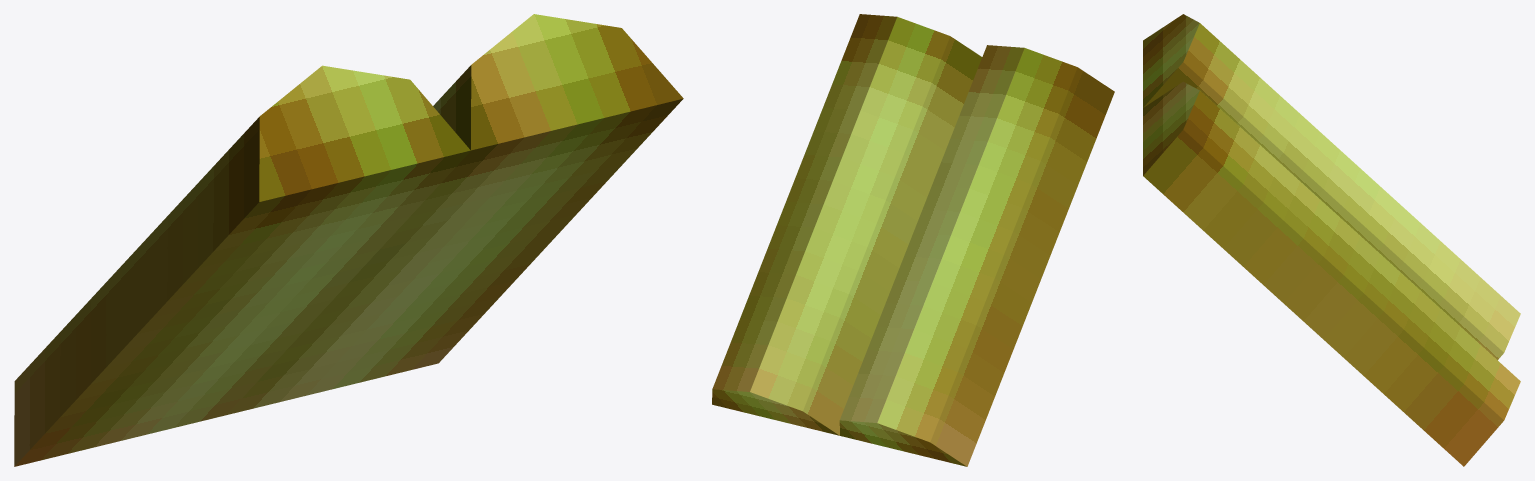
Rendered from orient_green_roofing.obj.
The picture shows the model from 3 angles, left to right: view 1: azimuth 30°, elevation 25°; view 2: azimuth 150°, elevation 25°; view 3: azimuth 270°, elevation 25°; orthographic projection. The views are drawn at different scales.
Visible parts, largest first — view 1: Cylinder; view 2: Cylinder; view 3: Cylinder.
Part boxes in pixels (x1=…): Cylinder: x1=14, y1=14, x2=683, y2=466; Cylinder: x1=712, y1=14, x2=1114, y2=466; Cylinder: x1=1143, y1=14, x2=1520, y2=466.
Bounding box in the file's own units: 1 × 1.18 × 1.18.
